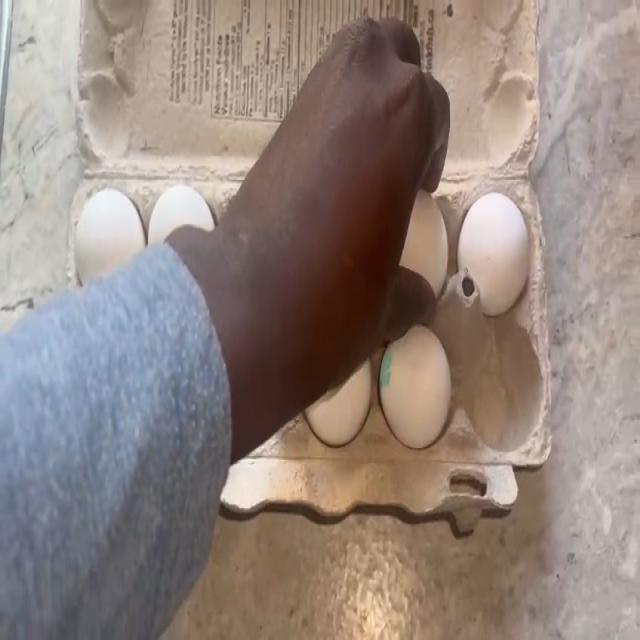Egg: (377, 346, 456, 444), (66, 175, 138, 276), (468, 193, 534, 294), (412, 206, 452, 288), (154, 177, 208, 236), (322, 395, 370, 451)
